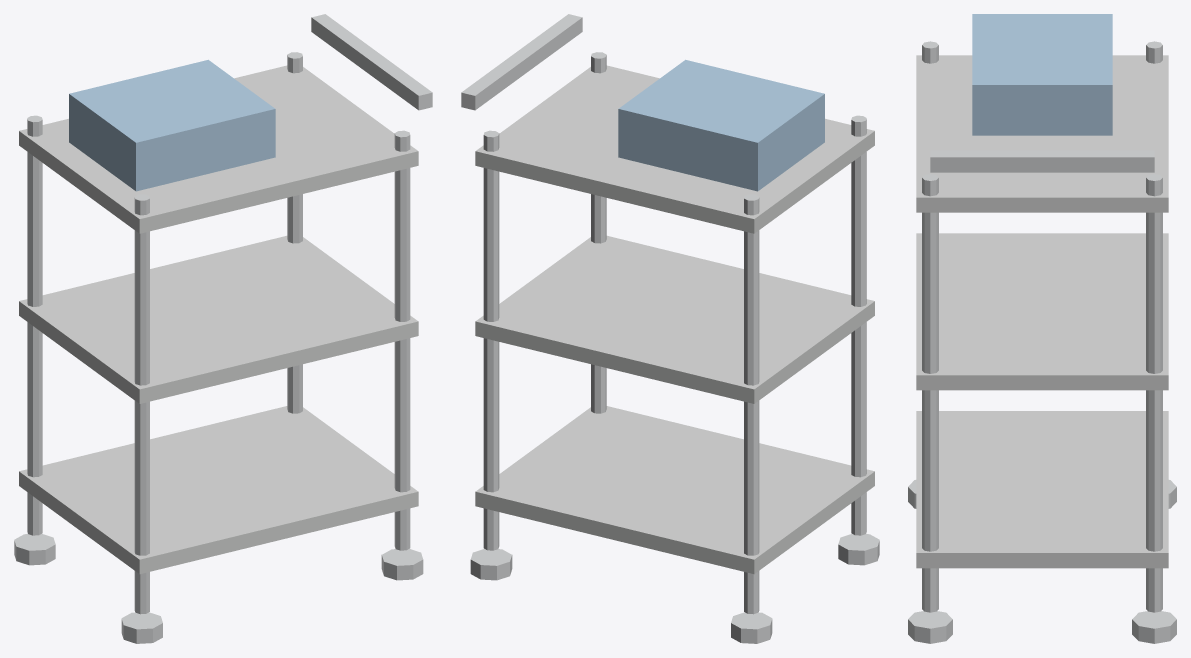
Rendered from cart.glb.
The picture shows the model from 3 angles, left to right: view 1: azimuth 30°, elevation 25°; view 2: azimuth 150°, elevation 25°; view 3: azimuth 270°, elevation 25°; orthographic projection. The views are drawn at different scales.
Visible parts, largest first — view 1: cart; view 2: cart; view 3: cart.
Part boxes in pixels (x1,y1,x2,y2): cart: [14, 14, 432, 643]; cart: [461, 14, 879, 643]; cart: [908, 14, 1176, 643].
Size of the model in its own units: 0.665 by 0.975 by 0.48.
